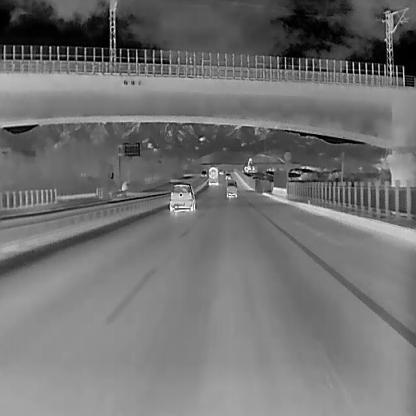car: (168, 182, 195, 212), (208, 165, 219, 186), (226, 180, 237, 198), (200, 169, 207, 177), (225, 172, 231, 180), (219, 169, 225, 175)
